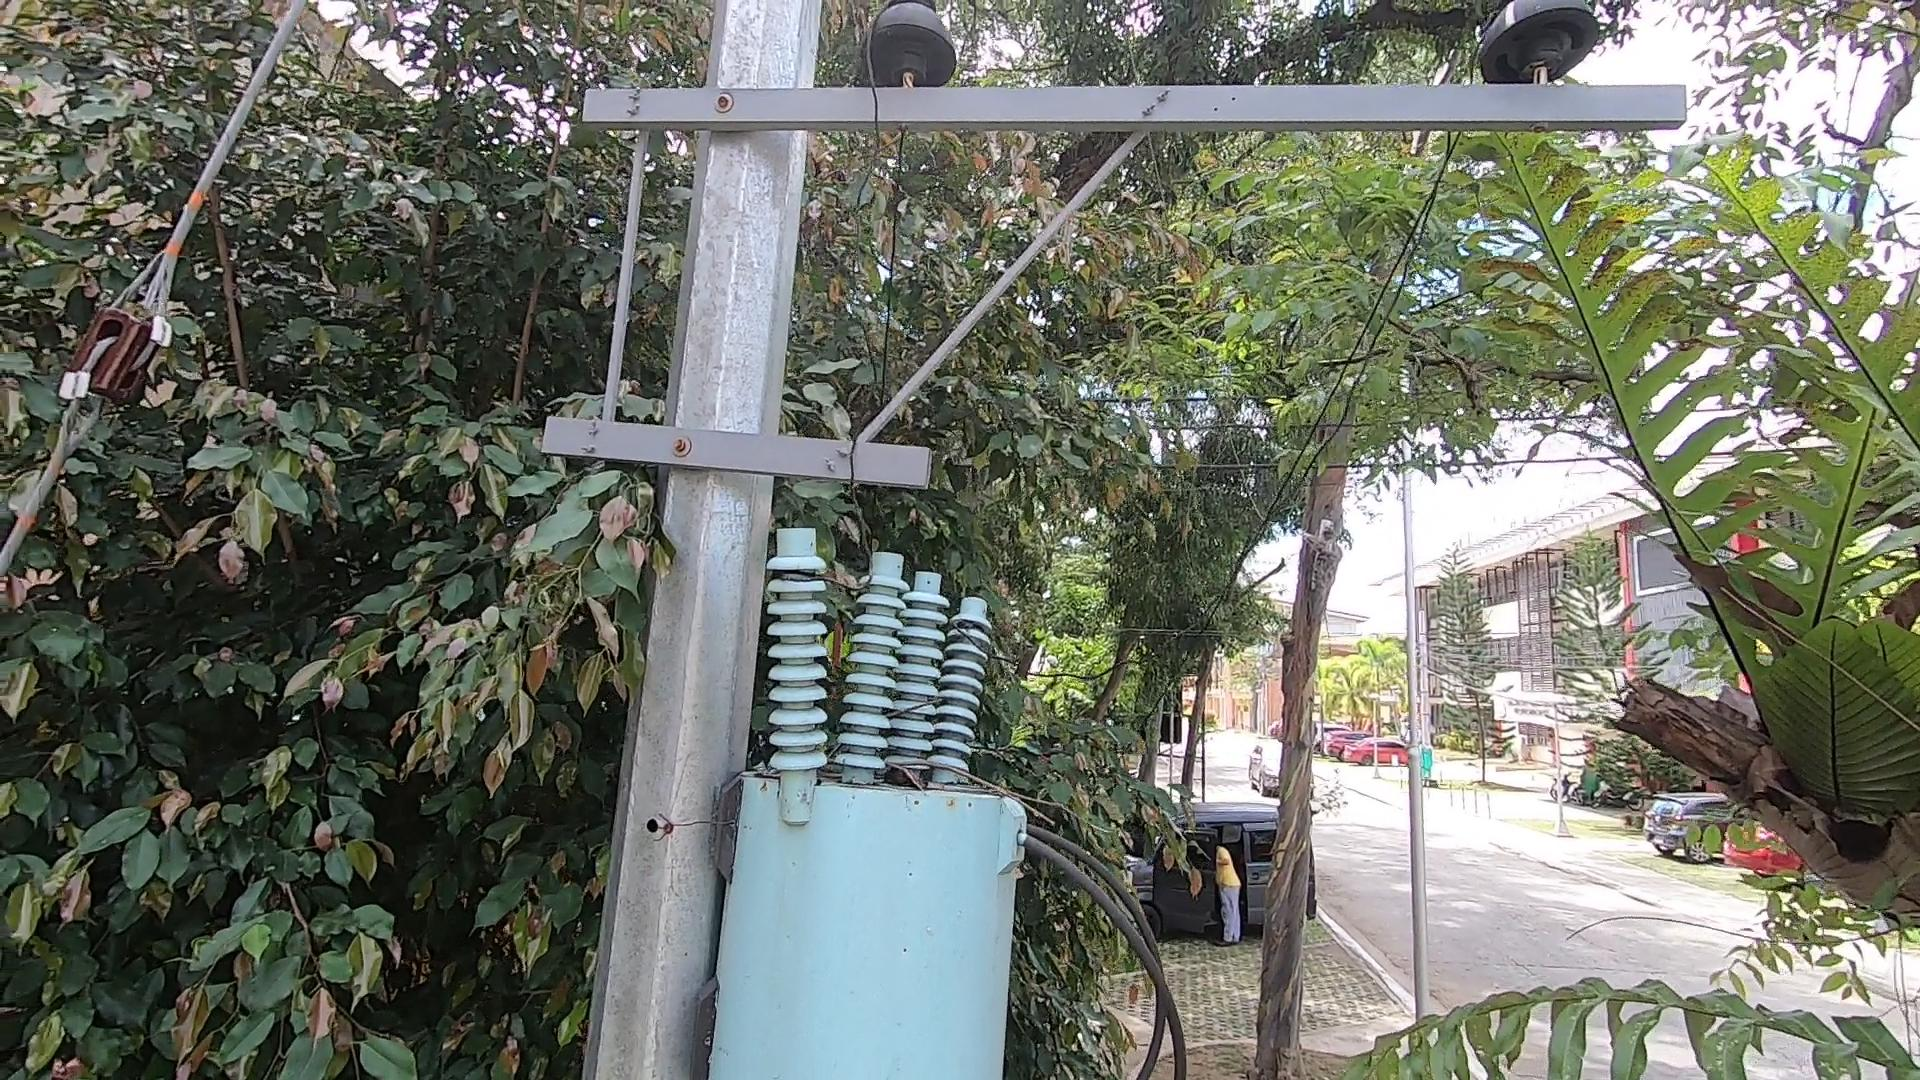leaf: (866, 760, 926, 794)
tree branch: (831, 741, 1131, 852)
